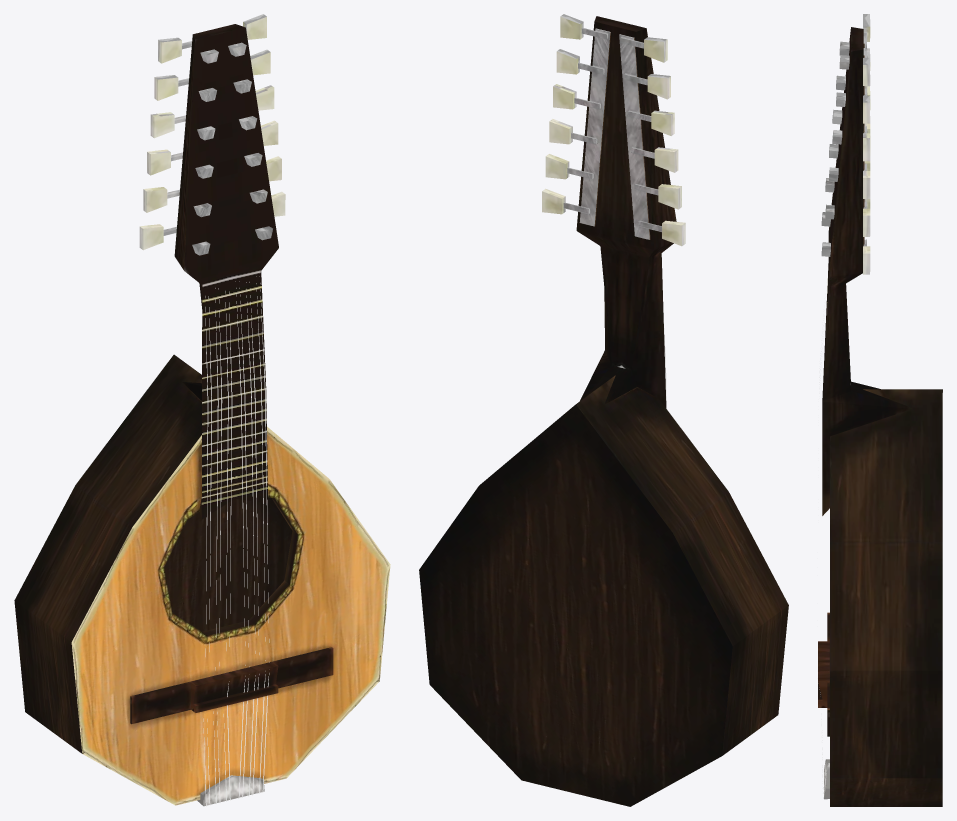
Rendered from colombian_andean_bandola_colombian_instrument.lod2.glb.
3 renders of one model, left to right at view 1: azimuth 30°, elevation 25°; view 2: azimuth 150°, elevation 25°; view 3: azimuth 270°, elevation 25°, orthographic.
Parts seen in each view (by area): view 1: Cylinder.001, Cylinder; view 2: Cylinder.001; view 3: Cylinder.001.
Part boxes in pixels (left/top/right/bottom): Cylinder.001: left=14, top=14, right=390, bottom=806; Cylinder: left=203, top=276, right=269, bottom=806; Cylinder.001: left=419, top=14, right=788, bottom=806; Cylinder.001: left=818, top=14, right=942, bottom=806.
Size of the model in its own units: 1.97 by 4.46 by 0.6806.
Materials: 2 (1 with a texture image).
